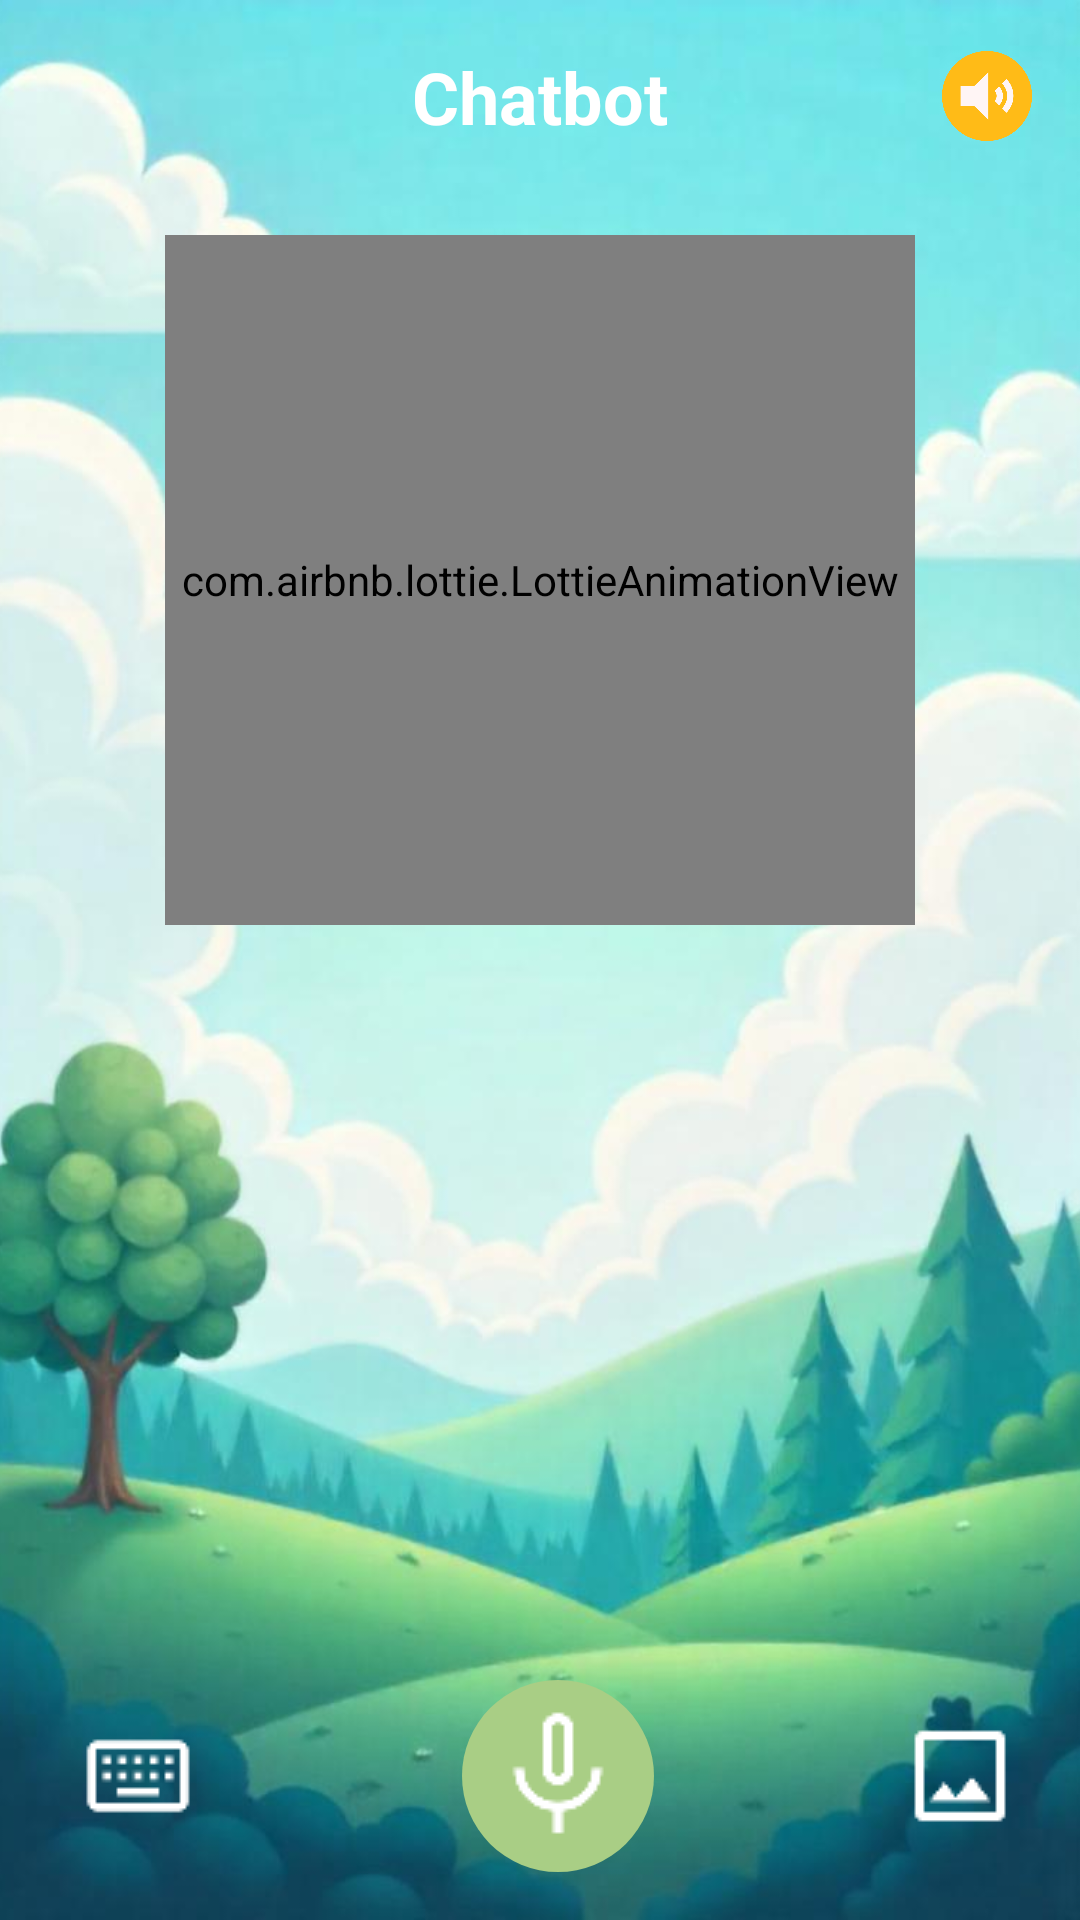

Screen size 1080×1920. Icon name, then its center in pixels as point (x, y):
Photo input: point (960, 1776)
Speaker toggle: point (987, 96)
Voice input: point (558, 1776)
